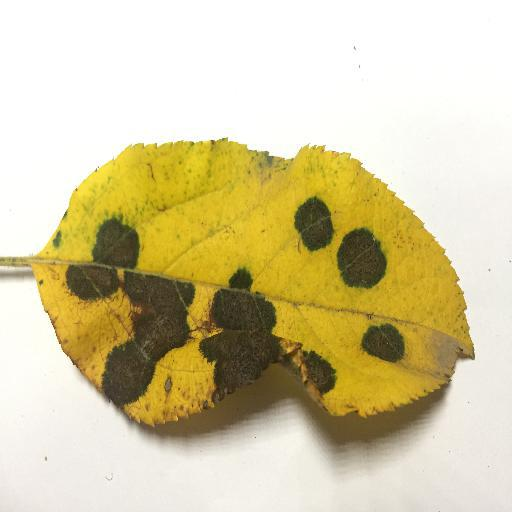Brown_Spot: (97, 265, 266, 407), (85, 215, 139, 262), (55, 264, 115, 300), (362, 320, 412, 360), (342, 237, 381, 284), (293, 350, 332, 397), (296, 204, 334, 249)
